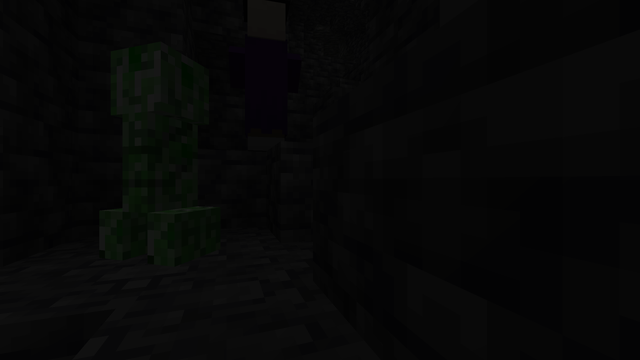creepers: (104, 25, 204, 268)
sorcieres: (241, 1, 292, 153)
